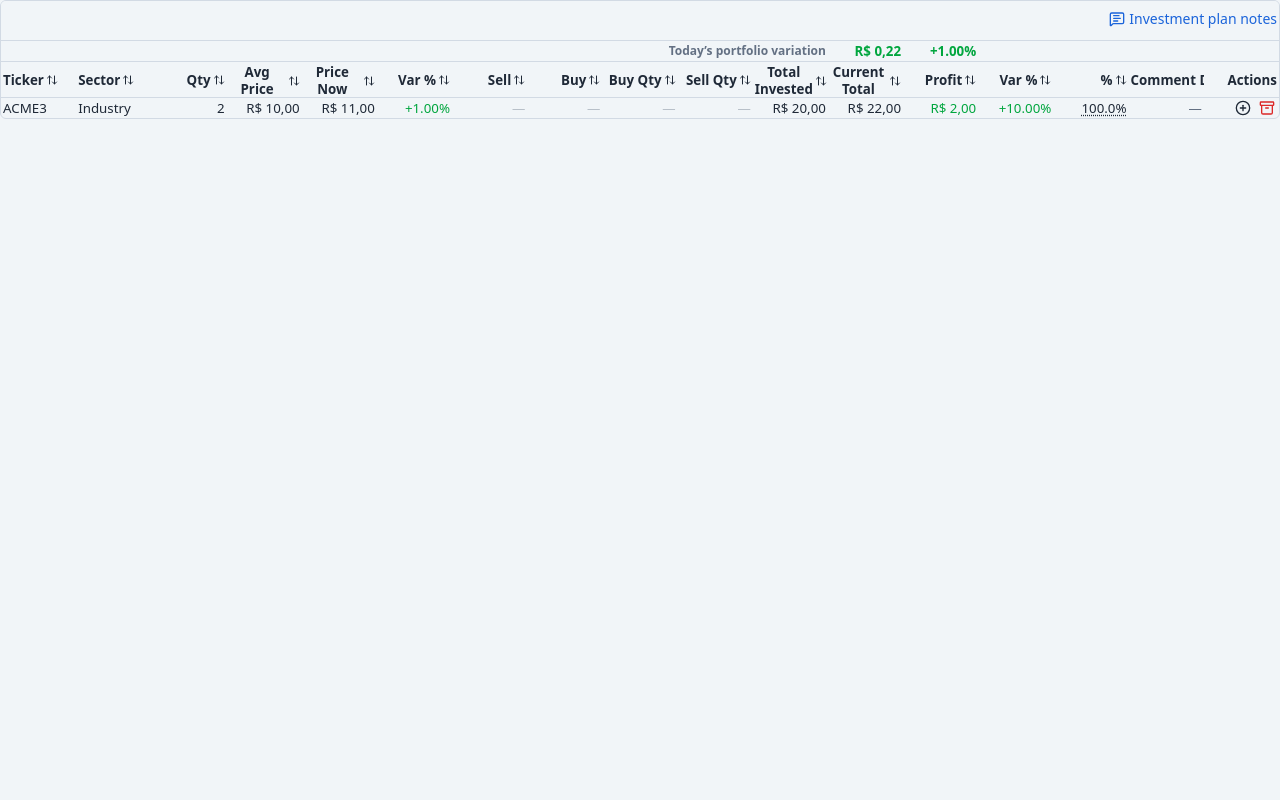
Scenario: InvestmentTable plan notes entry point › shows the link above daily variation on desktop and mobile and opens the modal
The width and height of the screenshot is (1280, 800).
Check: the row "Investment plan notes" is shown, box [1, 1, 1279, 40]
Check: the row "Today’s portfolio variation R$ 0,22 +1.00%" is shown, box [1, 40, 1279, 62]
Click the button "Investment plan notes": (1193, 19) [1109, 9, 1277, 29]
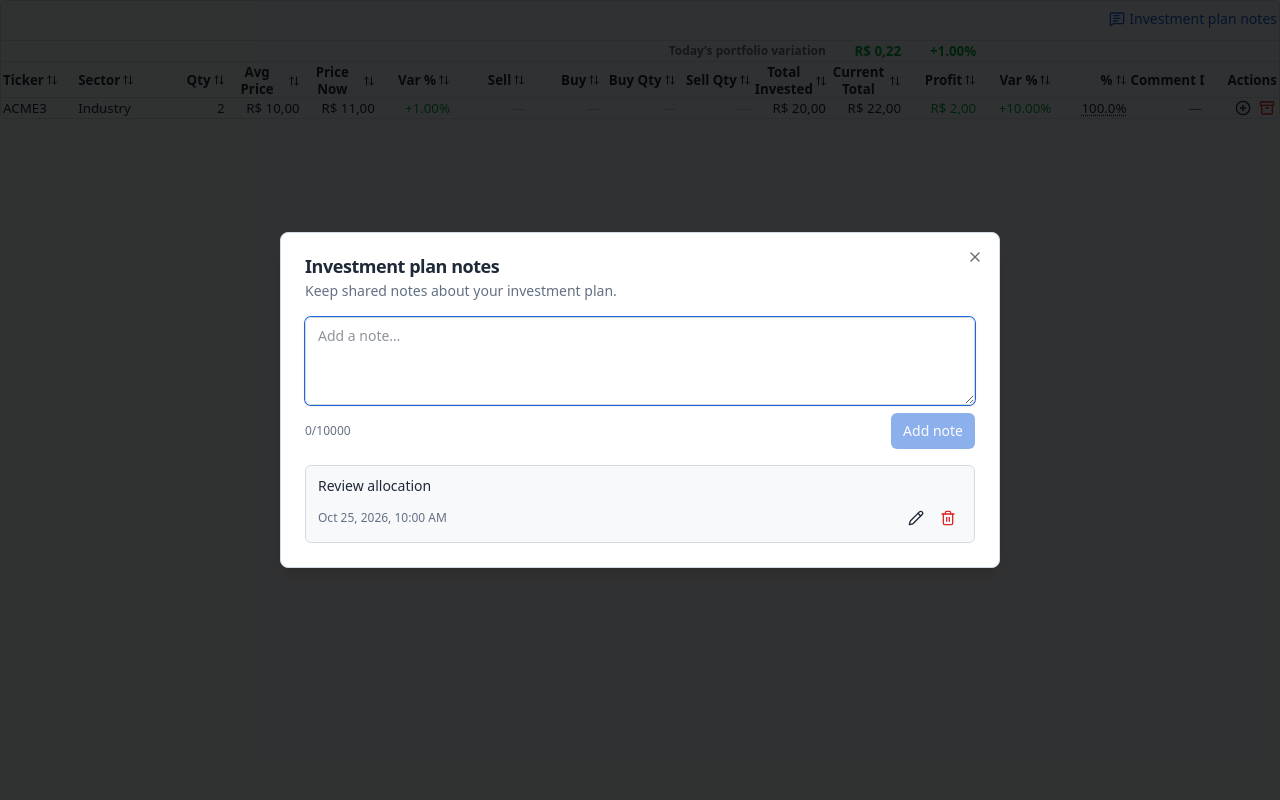
Check: the dialog "Investment plan notes" is shown, box [280, 232, 1000, 568]
